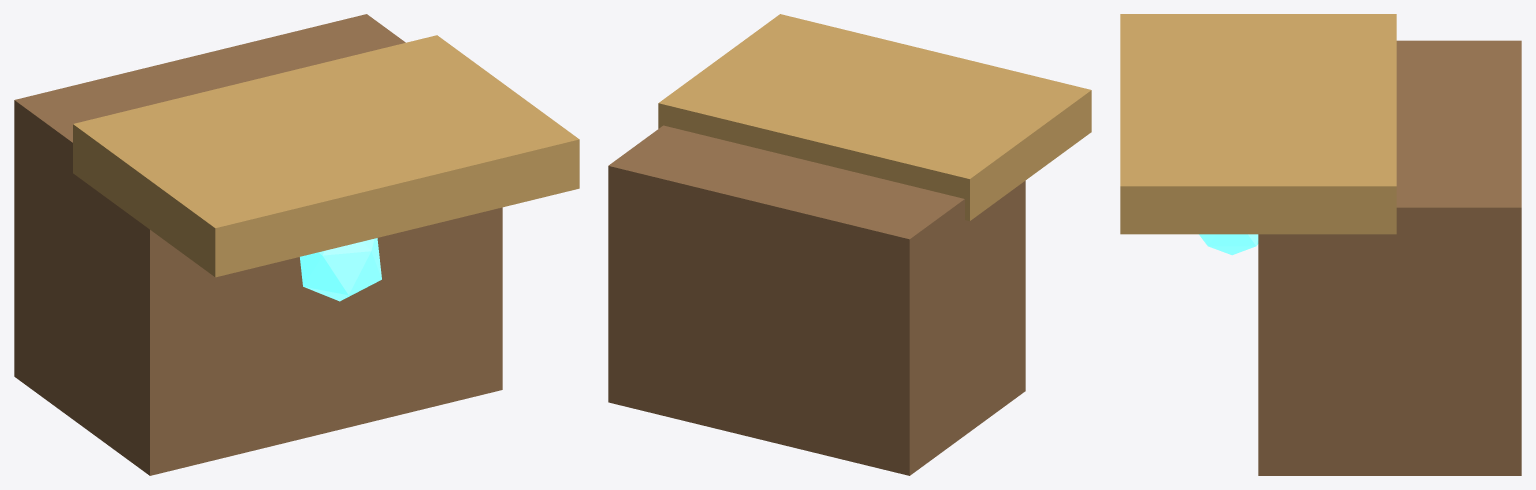
The model's file is test_ernie_cofre_20261111.glb.
The picture shows the model from 3 angles, left to right: view 1: azimuth 30°, elevation 25°; view 2: azimuth 150°, elevation 25°; view 3: azimuth 270°, elevation 25°; orthographic projection. The views are drawn at different scales.
Visible parts, largest first — view 1: SM_Test_Cofre_Base, SM_Test_Cofre_Tapa, SM_Test_Gema; view 2: SM_Test_Cofre_Base, SM_Test_Cofre_Tapa; view 3: SM_Test_Cofre_Base, SM_Test_Cofre_Tapa, SM_Test_Gema.
Boxes of the visible parts, box(x1,y1,x2,y2) form: SM_Test_Cofre_Base: box(14, 14, 502, 475); SM_Test_Cofre_Tapa: box(73, 35, 579, 277); SM_Test_Gema: box(300, 238, 381, 301); SM_Test_Cofre_Base: box(608, 125, 1025, 475); SM_Test_Cofre_Tapa: box(658, 14, 1091, 221); SM_Test_Cofre_Base: box(1258, 40, 1521, 475); SM_Test_Cofre_Tapa: box(1120, 14, 1396, 234); SM_Test_Gema: box(1199, 234, 1258, 255).
Bounding box in the file's own units: 0.62 × 0.49 × 0.61.
